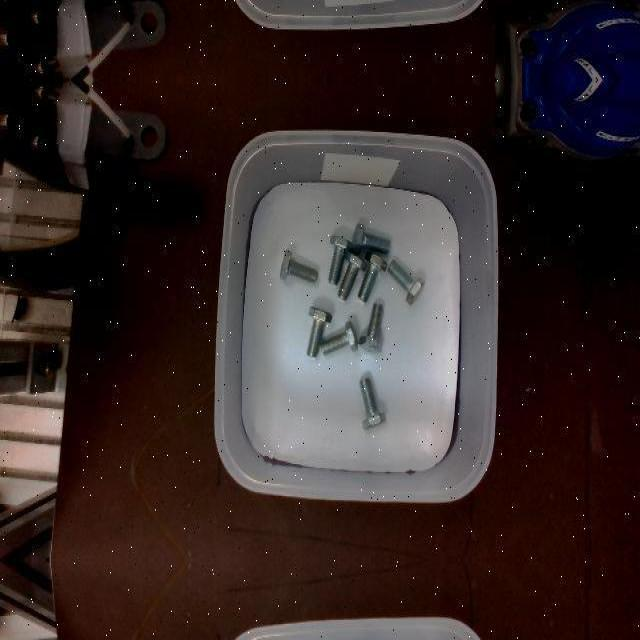screw: (387, 259, 425, 305), (357, 249, 387, 301), (358, 376, 386, 430), (338, 249, 367, 299), (306, 305, 332, 355), (358, 301, 384, 351), (279, 248, 317, 282), (319, 320, 357, 354), (351, 223, 391, 255), (328, 235, 352, 285)
